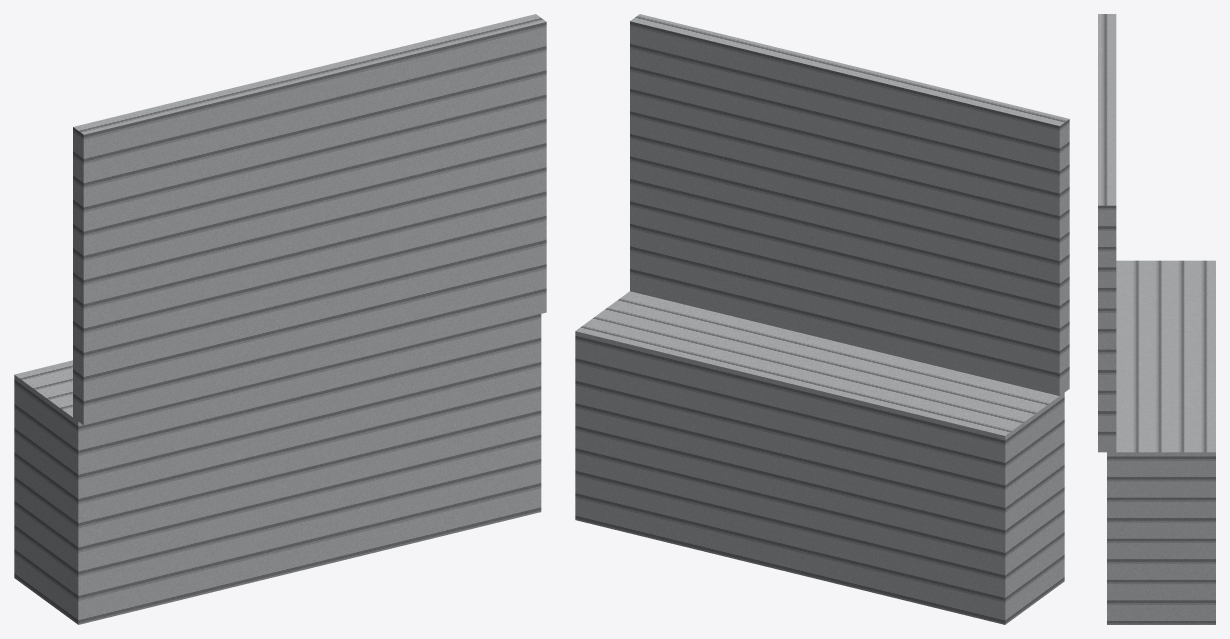
The model's file is bar_counter_backbar.glb.
3 views of the same model, side by side, from view 1: azimuth 30°, elevation 25°; view 2: azimuth 150°, elevation 25°; view 3: azimuth 270°, elevation 25° (orthographic). The views are drawn at different scales.
Parts seen in each view (by area): view 1: bar_counter_backbar-col; view 2: bar_counter_backbar-col; view 3: bar_counter_backbar-col.
Boxes of the visible parts, x1,y1,x2,y2 form: bar_counter_backbar-col: (14, 14, 546, 624); bar_counter_backbar-col: (575, 14, 1069, 624); bar_counter_backbar-col: (1098, 14, 1215, 624).
Bounding box in the file's own units: 2.5 × 2.55 × 0.65.
Materials: 1 (1 with a texture image).
